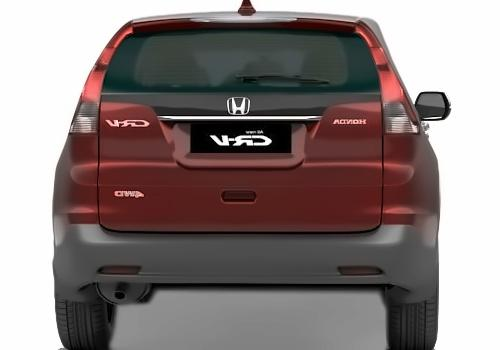Car boot: (91, 7, 387, 239)
Rear bumper: (43, 217, 443, 311)
Rear light - -L-: (65, 20, 133, 138)
Rear light - -R-: (353, 18, 419, 136)
Side mirror - -R-: (412, 89, 450, 124)
